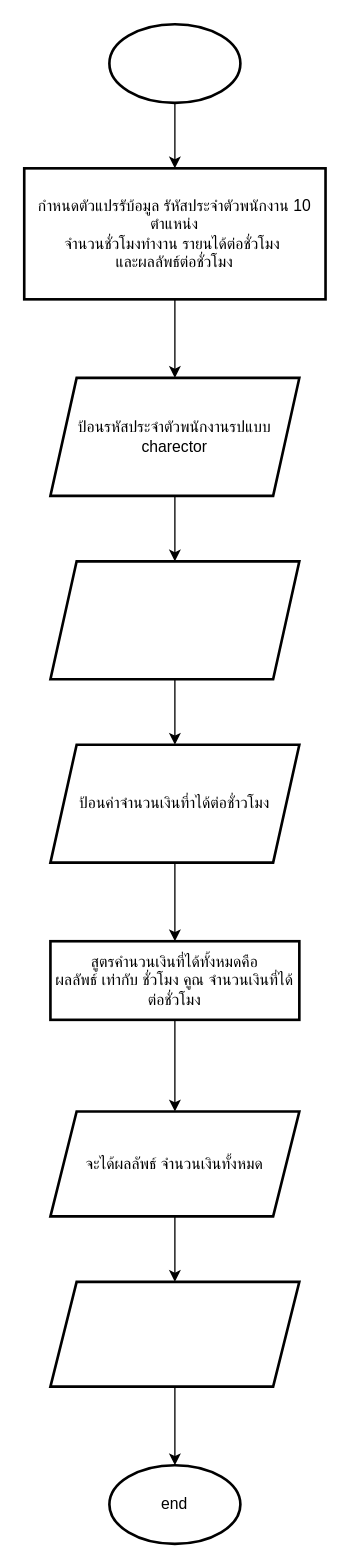
The diagram is 348 pixels wide and 1567 high, and some of its shapes have lost their labels. The shapes that lost their labels are listed below. From the top down, each one's centre as x and y in pixels, then its label:
the point at 174,62: start
the point at 174,619: ป้อนค่าว่าทำงานกี่ชั่วโมง
the point at 174,1333: รหัสพนักงาน
